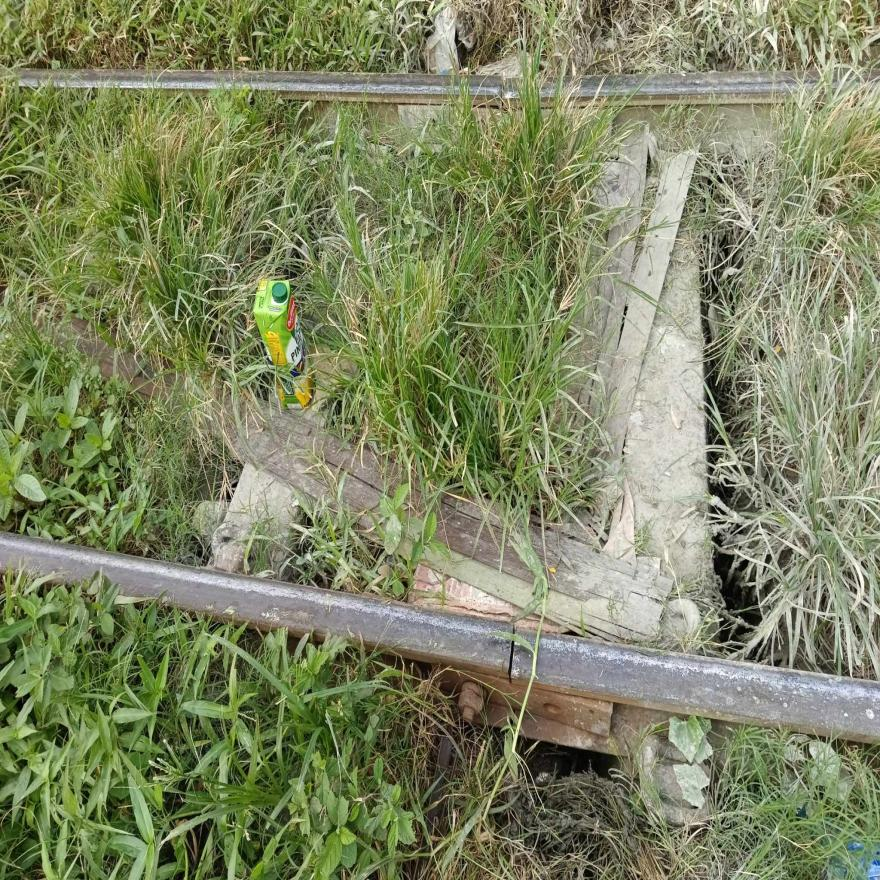railway-gap: (464, 595, 565, 713)
